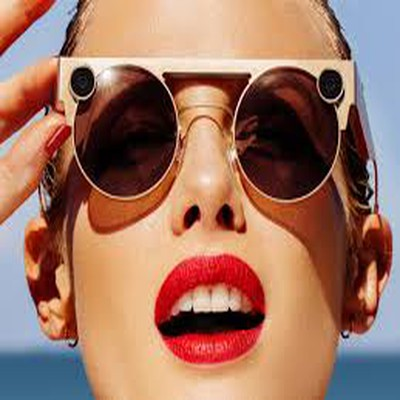eywear: (52, 41, 398, 222)
